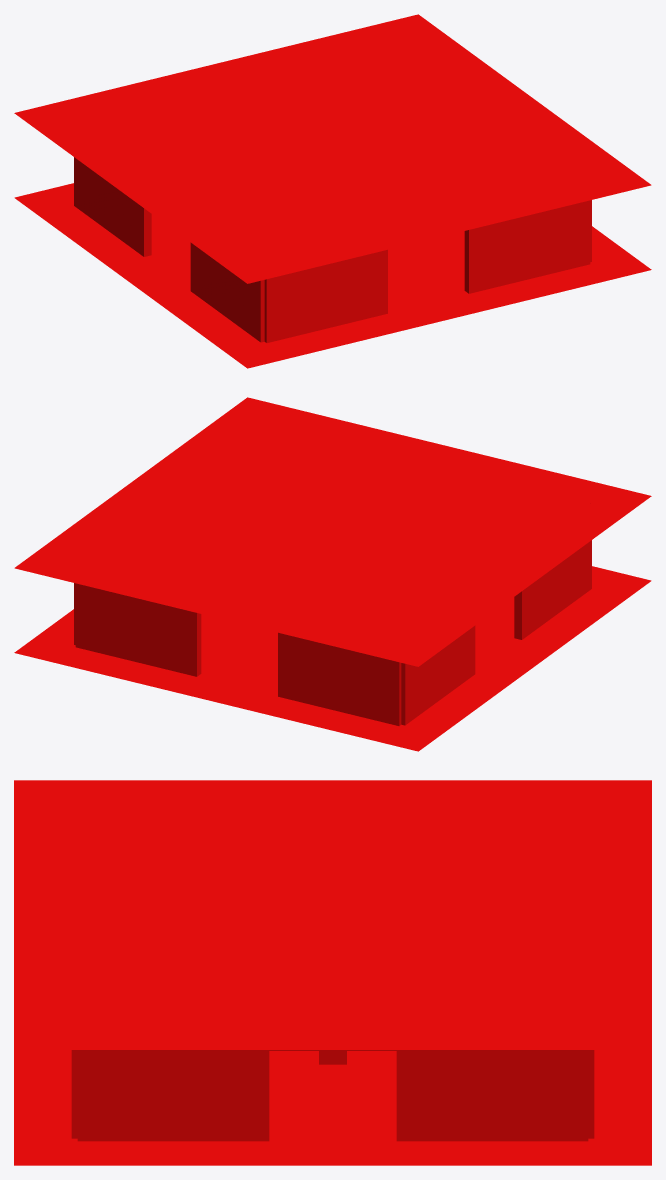
File: cave_room_h.dae
3 views of the same model, one above another, from view 1: azimuth 30°, elevation 25°; view 2: azimuth 150°, elevation 25°; view 3: azimuth 270°, elevation 25° (orthographic). The views are drawn at different scales.
Visible parts, largest first — view 1: Plane.001, Plane, Cube.009, Cube.010, Cube.003, Cube.004, Cube.006, Cube.007, Cube.001; view 2: Plane.001, Plane, Cube.006, Cube.007, Cube.004, Cube.003, Cube.009, Cube.010, Cube; view 3: Plane.001, Plane, Cube.001, Cube, Cube.007, Cube.010, Cube.004, Cube.003, Cube.009, Cube.006, Cube.002, Cube.005 (+2 smaller).
Boxes of the visible parts, box(x1,y1,x2,y2) form: Plane.001: box(14, 14, 651, 283); Plane: box(14, 183, 651, 368); Cube.009: box(263, 226, 387, 342); Cube.010: box(464, 191, 590, 293); Cube.003: box(190, 205, 265, 342); Cube.004: box(74, 120, 151, 256); Cube.006: box(76, 89, 200, 121); Cube.007: box(278, 40, 402, 72); Cube.001: box(398, 40, 474, 93); Plane.001: box(14, 397, 651, 666); Plane: box(14, 566, 651, 751); Cube.006: box(278, 609, 402, 725); Cube.007: box(75, 560, 201, 676); Cube.004: box(400, 588, 475, 725); Cube.003: box(514, 503, 591, 639); Cube.009: box(465, 472, 589, 504); Cube.010: box(263, 423, 387, 455); Cube: box(191, 423, 267, 476); Plane.001: box(14, 780, 651, 1049); Plane: box(14, 1050, 651, 1165); Cube.001: box(396, 1020, 588, 1141); Cube: box(77, 1020, 269, 1141); Cube.007: box(582, 942, 594, 1138); Cube.010: box(71, 942, 83, 1138); Cube.004: box(396, 804, 588, 809); Cube.003: box(77, 804, 269, 809); Cube.009: box(71, 807, 83, 888); Cube.006: box(582, 807, 594, 888); Cube.002: box(269, 1020, 396, 1050); Cube.005: box(269, 804, 396, 809).
Bounding box in the file's own units: 1280 × 1280 × 256.
